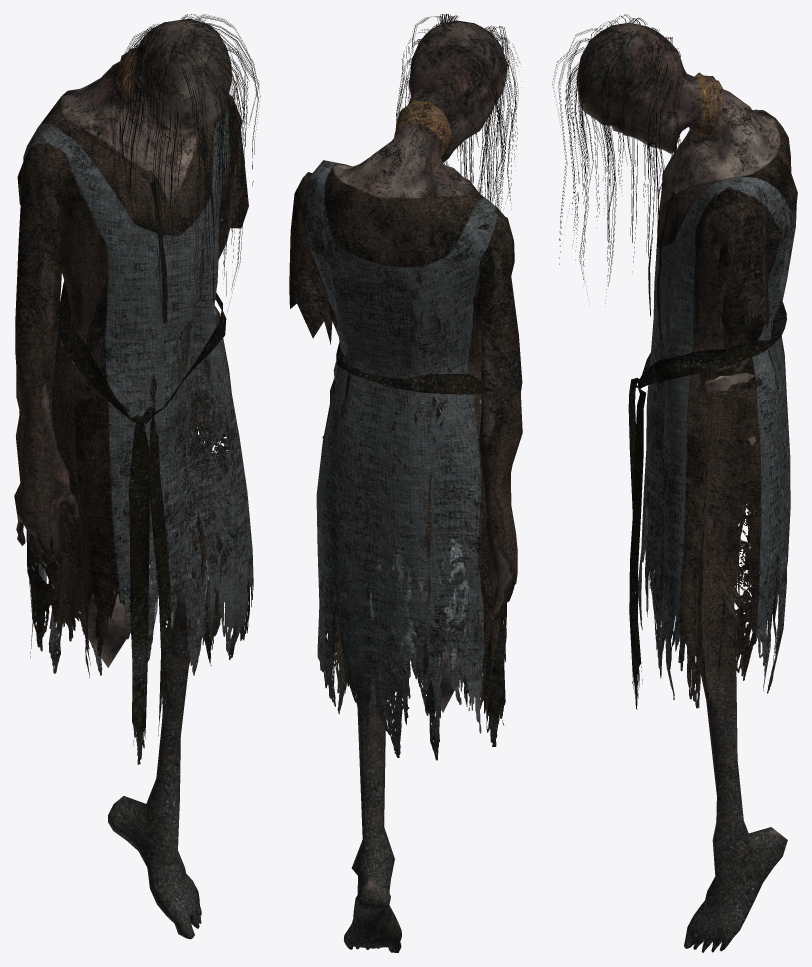
Rendered from P_Hang02_02.fbx.
3 renders of one model, left to right at view 1: azimuth 30°, elevation 25°; view 2: azimuth 150°, elevation 25°; view 3: azimuth 270°, elevation 25°, orthographic. The views are drawn at different scales.
Visible parts, largest first — view 1: P_Hang02_02; view 2: P_Hang02_02; view 3: P_Hang02_02.
Boxes of the visible parts, bbox=[...] form: P_Hang02_02: bbox=[14, 14, 260, 939]; P_Hang02_02: bbox=[289, 14, 522, 952]; P_Hang02_02: bbox=[552, 14, 797, 952].
Size of the model in its own units: 62.07 by 242 by 59.37.
